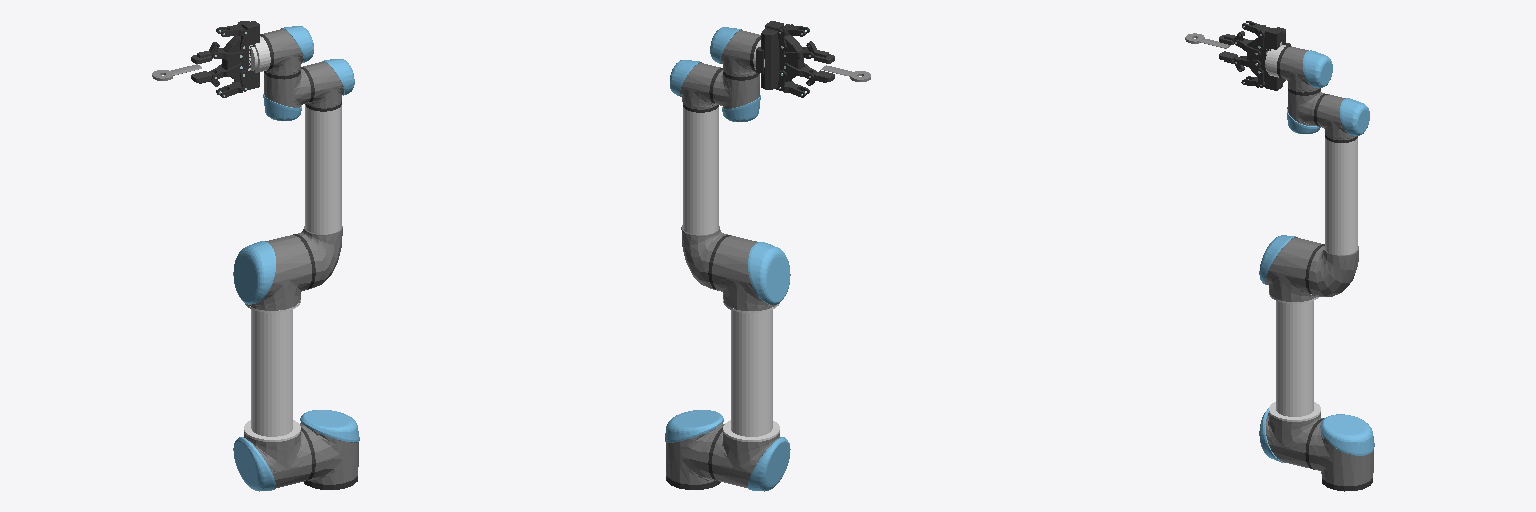
--- Facts derived from the render (not from the file) ---
3 views of the same robot in one strip: view 1: azimuth 30°, elevation 25°; view 2: azimuth 150°, elevation 25°; view 3: azimuth 330°, elevation 25° (orthographic).
Model robot_base_respondable with 17 links and 16 joints (10 revolute, 6 continuous), rooted at robot_base, posed every joint at zero.
Visible links, largest first — view 1: link_2_respondable_respondable_respondable_respondable_respondab, link_3_respondable_respondable_respondable_respondable_respondab, link_respondable_respondable_respondable_respondable_respondable, link_5_respondable_respondable_respondable_respondable_respondab, link_4_respondable_respondable_respondable_respondable_respondab, robotiq_base_respondable_respondable_respondable_respondable_res, link_6_respondable_respondable_respondable_respondable_respondab; view 2: link_2_respondable_respondable_respondable_respondable_respondab, link_3_respondable_respondable_respondable_respondable_respondab, link_respondable_respondable_respondable_respondable_respondable, link_5_respondable_respondable_respondable_respondable_respondab, link_4_respondable_respondable_respondable_respondable_respondab, robotiq_base_respondable_respondable_respondable_respondable_res; view 3: link_2_respondable_respondable_respondable_respondable_respondab, link_3_respondable_respondable_respondable_respondable_respondab, link_respondable_respondable_respondable_respondable_respondable, link_5_respondable_respondable_respondable_respondable_respondab, link_4_respondable_respondable_respondable_respondable_respondab, robotiq_base_respondable_respondable_respondable_respondable_res.
Link boxes in pixels (x1=…): link_2_respondable_respondable_respondable_respondable_respondab: x1=233, y1=234, x2=315, y2=491; link_3_respondable_respondable_respondable_respondable_respondab: x1=298, y1=59, x2=354, y2=289; link_respondable_respondable_respondable_respondable_respondable: x1=300, y1=410, x2=359, y2=484; link_5_respondable_respondable_respondable_respondable_respondab: x1=260, y1=26, x2=313, y2=79; link_4_respondable_respondable_respondable_respondable_respondab: x1=263, y1=67, x2=314, y2=120; robotiq_base_respondable_respondable_respondable_respondable_res: x1=222, y1=21, x2=259, y2=89; link_6_respondable_respondable_respondable_respondable_respondab: x1=251, y1=36, x2=270, y2=72; link_2_respondable_respondable_respondable_respondable_respondab: x1=708, y1=235, x2=790, y2=491; link_3_respondable_respondable_respondable_respondable_respondab: x1=670, y1=60, x2=727, y2=289; link_respondable_respondable_respondable_respondable_respondable: x1=665, y1=410, x2=724, y2=484; link_5_respondable_respondable_respondable_respondable_respondab: x1=710, y1=27, x2=760, y2=80; link_4_respondable_respondable_respondable_respondable_respondab: x1=709, y1=68, x2=760, y2=121; robotiq_base_respondable_respondable_respondable_respondable_res: x1=756, y1=21, x2=803, y2=89; link_2_respondable_respondable_respondable_respondable_respondab: x1=1259, y1=235, x2=1324, y2=468; link_3_respondable_respondable_respondable_respondable_respondab: x1=1308, y1=94, x2=1369, y2=296; link_respondable_respondable_respondable_respondable_respondable: x1=1305, y1=414, x2=1374, y2=485; link_5_respondable_respondable_respondable_respondable_respondab: x1=1277, y1=46, x2=1332, y2=95; link_4_respondable_respondable_respondable_respondable_respondab: x1=1287, y1=88, x2=1327, y2=133; robotiq_base_respondable_respondable_respondable_respondable_res: x1=1247, y1=27, x2=1290, y2=90.
Bounding box of the posed robot: 0.4709 × 0.12 × 1.06 m (x, y, z).
42 mesh visuals loaded from 42 distinct referenced files (42 Collada DAE).

URDF robot description (robot_base_respondable):
<?xml version="1.0"?>
<robot name="robot_base_respondable">
    <link name="robot_base">
        <collision name="robot_base_respondable">
            <origin rpy="3.141592 3.141593 -2.552481" xyz="0.000000 0.000000 0.000000" />
            <geometry>
                <cylinder radius="0.056886240839958" length="0.012300089001656" />
            </geometry>
        </collision>
        <collision name="robot_base_respondable">
            <origin rpy="-3.141592 3.141593 1.747927" xyz="0.000000 0.000000 -0.014650" />
            <geometry>
                <cylinder radius="0.072642646729946" length="0.017000352963805" />
            </geometry>
        </collision>
        <visual name="robot_base_visual">
            <origin rpy="3.141592 3.141593 3.141592" xyz="0.000000 0.000000 -0.008500" />
            <geometry>
                <mesh filename="models/urdf/industrial_06397/industrial_06397_robot_base_visual_vis_1.dae" />
            </geometry>
            <material name="robot_base_visual_material">
                <color rgba="0.282353 0.282353 0.282353 1.0" />
            </material>
        </visual>
    </link>
    <joint name="joint" type="revolute">
        <axis xyz="0 0 1" />
        <limit velocity="1.5707963705063" lower="-6.2831854820251" upper="6.2831854820251" effort="200.0" />
        <parent link="robot_base" />
        <child link="link_respondable_respondable_respondable_respondable_respondable_respondable" />
        <origin rpy="3.141592 3.141593 3.141592" xyz="-0.000000 0.000000 0.000000" />
    </joint>
    <link name="link_respondable_respondable_respondable_respondable_respondable_respondable">
        <inertial>
            <origin rpy="3.141592 3.141593 3.141592" xyz="-0.012312 0.000048 0.066405" />
            <inertia izz="0.09818059467752" iyz="-7.9251186174956e-05" iyy="0.10672965841326" ixx="0.095492165355254" ixz="0.0024490834762624" ixy="8.9516803607533e-05" />
            <mass value="2.5" />
        </inertial>
        <collision name="link_respondable_respondable_respondable_respondable_respondable_respondable">
            <origin rpy="3.141592 3.141593 3.141592" xyz="-0.007178 0.000095 0.070381" />
            <geometry>
                <mesh filename="models/urdf/industrial_06397/industrial_06397_link_respondable_respondable_respondable_respondable_respondable_respondable_coll_1.dae" />
            </geometry>
        </collision>
        <collision name="link_respondable_respondable_respondable_respondable_respondable_respondable">
            <origin rpy="3.141592 3.141593 3.141592" xyz="-0.007178 0.000095 0.070381" />
            <geometry>
                <mesh filename="models/urdf/industrial_06397/industrial_06397_link_respondable_respondable_respondable_respondable_respondable_respondable_coll_2.dae" />
            </geometry>
        </collision>
        <collision name="link_respondable_respondable_respondable_respondable_respondable_respondable">
            <origin rpy="3.141592 3.141593 3.141592" xyz="-0.007178 0.000095 0.070381" />
            <geometry>
                <mesh filename="models/urdf/industrial_06397/industrial_06397_link_respondable_respondable_respondable_respondable_respondable_respondable_coll_3.dae" />
            </geometry>
        </collision>
        <visual name="link_respondable_respondable_respondable_respondable_respondable_visual">
            <origin rpy="3.141592 3.141593 3.141592" xyz="-0.007150 0.000000 0.070335" />
            <geometry>
                <mesh filename="models/urdf/industrial_06397/industrial_06397_link_respondable_respondable_respondable_respondable_respondable_visual_vis_1.dae" />
            </geometry>
            <material name="link_respondable_respondable_respondable_respondable_respondable_visual_material">
                <color rgba="0.282353 0.282353 0.282353 1.0" />
            </material>
        </visual>
        <visual name="link_respondable_respondable_respondable_respondable_respondable_visual">
            <origin rpy="3.141592 3.141593 3.141592" xyz="-0.007150 0.000000 0.070335" />
            <geometry>
                <mesh filename="models/urdf/industrial_06397/industrial_06397_link_respondable_respondable_respondable_respondable_respondable_visual_vis_2.dae" />
            </geometry>
            <material name="link_respondable_respondable_respondable_respondable_respondable_visual_material">
                <color rgba="0.535294 0.535294 0.535294 1.0" />
            </material>
        </visual>
        <visual name="link_respondable_respondable_respondable_respondable_respondable_visual">
            <origin rpy="3.141592 3.141593 3.141592" xyz="-0.007150 0.000000 0.070335" />
            <geometry>
                <mesh filename="models/urdf/industrial_06397/industrial_06397_link_respondable_respondable_respondable_respondable_respondable_visual_vis_3.dae" />
            </geometry>
            <material name="link_respondable_respondable_respondable_respondable_respondable_visual_material">
                <color rgba="0.508235 0.761224 0.903529 1.0" />
            </material>
        </visual>
    </link>
    <joint name="joint_2" type="revolute">
        <axis xyz="0 0 1" />
        <limit velocity="1.5707963705063" lower="-6.2831854820251" upper="6.2831854820251" effort="200.0" />
        <parent link="link_respondable_respondable_respondable_respondable_respondable_respondable" />
        <child link="link_2_respondable_respondable_respondable_respondable_respondable_respondable" />
        <origin rpy="0.000001 -1.570796 0.000000" xyz="-0.070300 0.000000 0.066050" />
    </joint>
    <link name="link_2_respondable_respondable_respondable_respondable_respondable_respondable">
        <inertial>
            <origin rpy="-0.000000 1.570796 0.000000" xyz="0.215595 -0.000035 0.063573" />
            <inertia izz="0.067345368316432" iyz="-0.00017721757850982" iyy="0.63325135224174" ixx="0.62573305153059" ixz="-0.0052638063542259" ixy="9.2431180680848e-06" />
            <mass value="5.6999998092651" />
        </inertial>
        <collision name="link_2_respondable_respondable_respondable_respondable_respondable_respondable">
            <origin rpy="-0.000000 1.570796 0.000000" xyz="0.212550 -0.000115 0.064235" />
            <geometry>
                <mesh filename="models/urdf/industrial_06397/industrial_06397_link_2_respondable_respondable_respondable_respondable_respondable_respondable_coll_1.dae" />
            </geometry>
        </collision>
        <collision name="link_2_respondable_respondable_respondable_respondable_respondable_respondable">
            <origin rpy="-0.000000 1.570796 0.000000" xyz="0.212550 -0.000115 0.064235" />
            <geometry>
                <mesh filename="models/urdf/industrial_06397/industrial_06397_link_2_respondable_respondable_respondable_respondable_respondable_respondable_coll_2.dae" />
            </geometry>
        </collision>
        <collision name="link_2_respondable_respondable_respondable_respondable_respondable_respondable">
            <origin rpy="-0.000000 1.570796 0.000000" xyz="0.212550 -0.000115 0.064235" />
            <geometry>
                <mesh filename="models/urdf/industrial_06397/industrial_06397_link_2_respondable_respondable_respondable_respondable_respondable_respondable_coll_3.dae" />
            </geometry>
        </collision>
        <collision name="link_2_respondable_respondable_respondable_respondable_respondable_respondable">
            <origin rpy="-0.000000 1.570796 0.000000" xyz="0.212550 -0.000115 0.064235" />
            <geometry>
                <mesh filename="models/urdf/industrial_06397/industrial_06397_link_2_respondable_respondable_respondable_respondable_respondable_respondable_coll_4.dae" />
            </geometry>
        </collision>
        <collision name="link_2_respondable_respondable_respondable_respondable_respondable_respondable">
            <origin rpy="-0.000000 1.570796 0.000000" xyz="0.212550 -0.000115 0.064235" />
            <geometry>
                <mesh filename="models/urdf/industrial_06397/industrial_06397_link_2_respondable_respondable_respondable_respondable_respondable_respondable_coll_5.dae" />
            </geometry>
        </collision>
        <collision name="link_2_respondable_respondable_respondable_respondable_respondable_respondable">
            <origin rpy="-0.000000 1.570796 0.000000" xyz="0.212550 -0.000115 0.064235" />
            <geometry>
                <mesh filename="models/urdf/industrial_06397/industrial_06397_link_2_respondable_respondable_respondable_respondable_respondable_respondable_coll_6.dae" />
            </geometry>
        </collision>
        <collision name="link_2_respondable_respondable_respondable_respondable_respondable_respondable">
            <origin rpy="-0.000000 1.570796 0.000000" xyz="0.212550 -0.000115 0.064235" />
            <geometry>
                <mesh filename="models/urdf/industrial_06397/industrial_06397_link_2_respondable_respondable_respondable_respondable_respondable_respondable_coll_7.dae" />
            </geometry>
        </collision>
        <visual name="link_2_respondable_respondable_respondable_respondable_respondable_visual">
            <origin rpy="-0.000000 1.570796 0.000000" xyz="0.212550 0.000000 0.064217" />
            <geometry>
                <mesh filename="models/urdf/industrial_06397/industrial_06397_link_2_respondable_respondable_respondable_respondable_respondable_visual_vis_1.dae" />
            </geometry>
            <material name="link_2_respondable_respondable_respondable_respondable_respondable_visual_material">
                <color rgba="0.870588 0.870588 0.870588 1.0" />
            </material>
        </visual>
        <visual name="link_2_respondable_respondable_respondable_respondable_respondable_visual">
            <origin rpy="-0.000000 1.570796 0.000000" xyz="0.212550 0.000000 0.064217" />
            <geometry>
                <mesh filename="models/urdf/industrial_06397/industrial_06397_link_2_respondable_respondable_respondable_respondable_respondable_visual_vis_2.dae" />
            </geometry>
            <material name="link_2_respondable_respondable_respondable_respondable_respondable_visual_material">
                <color rgba="0.508235 0.761224 0.903529 1.0" />
            </material>
        </visual>
        <visual name="link_2_respondable_respondable_respondable_respondable_respondable_visual">
            <origin rpy="-0.000000 1.570796 0.000000" xyz="0.212550 0.000000 0.064217" />
            <geometry>
                <mesh filename="models/urdf/industrial_06397/industrial_06397_link_2_respondable_respondable_respondable_respondable_respondable_visual_vis_3.dae" />
            </geometry>
            <material name="link_2_respondable_respondable_respondable_respondable_respondable_visual_material">
                <color rgba="0.535294 0.535294 0.535294 1.0" />
            </material>
        </visual>
        <visual name="link_2_respondable_respondable_respondable_respondable_respondable_visual">
            <origin rpy="-0.000000 1.570796 0.000000" xyz="0.212550 0.000000 0.064217" />
            <geometry>
                <mesh filename="models/urdf/industrial_06397/industrial_06397_link_2_respondable_respondable_respondable_respondable_respondable_visual_vis_4.dae" />
            </geometry>
            <material name="link_2_respondable_respondable_respondable_respondable_respondable_visual_material">
                <color rgba="0.282353 0.282353 0.282353 1.0" />
            </material>
        </visual>
        <visual name="link_2_respondable_respondable_respondable_respondable_respondable_visual">
            <origin rpy="-0.000000 1.570796 0.000000" xyz="0.212550 0.000000 0.064217" />
            <geometry>
                <mesh filename="models/urdf/industrial_06397/industrial_06397_link_2_respondable_respondable_respondable_respondable_respondable_visual_vis_5.dae" />
            </geometry>
            <material name="link_2_respondable_respondable_respondable_respondable_respondable_visual_material">
                <color rgba="0.535294 0.535294 0.535294 1.0" />
            </material>
        </visual>
        <visual name="link_2_respondable_respondable_respondable_respondable_respondable_visual">
            <origin rpy="-0.000000 1.570796 0.000000" xyz="0.212550 0.000000 0.064217" />
            <geometry>
                <mesh filename="models/urdf/industrial_06397/industrial_06397_link_2_respondable_respondable_respondable_respondable_respondable_visual_vis_6.dae" />
            </geometry>
            <material name="link_2_respondable_respondable_respondable_respondable_respondable_visual_material">
                <color rgba="0.508235 0.761224 0.903529 1.0" />
            </material>
        </visual>
    </link>
    <joint name="joint_3" type="revolute">
        <axis xyz="0 0 1" />
        <limit velocity="1.5707963705063" lower="-6.2831854820251" upper="6.2831854820251" effort="200.0" />
        <parent link="link_2_respondable_respondable_respondable_respondable_respondable_respondable" />
        <child link="link_3_respondable_respondable_respondable_respondable_respondable_respondable" />
        <origin rpy="3.141593 3.141592 3.141592" xyz="0.425100 -0.000000 0.000000" />
    </joint>
    <link name="link_3_respondable_respondable_respondable_respondable_respondable_respondable">
        <inertial>
            <origin rpy="0.000000 1.570796 0.000000" xyz="0.192773 0.000015 -0.050153" />
            <inertia izz="0.035597955537677" iyz="-2.1029099787318e-05" iyy="0.46060709235019" ixx="0.4592564485459" ixz="-0.027670910392482" ixy="2.2187787147887e-06" />
            <mass value="3.9000000953674" />
        </inertial>
        <collision name="link_3_respondable_respondable_respondable_respondable_respondable_respondable">
            <origin rpy="0.000000 1.570796 0.000000" xyz="0.186773 0.000016 -0.057847" />
            <geometry>
                <mesh filename="models/urdf/industrial_06397/industrial_06397_link_3_respondable_respondable_respondable_respondable_respondable_respondable_coll_1.dae" />
            </geometry>
        </collision>
        <collision name="link_3_respondable_respondable_respondable_respondable_respondable_respondable">
            <origin rpy="0.000000 1.570796 0.000000" xyz="0.186773 0.000016 -0.057847" />
            <geometry>
                <mesh filename="models/urdf/industrial_06397/industrial_06397_link_3_respondable_respondable_respondable_respondable_respondable_respondable_coll_2.dae" />
            </geometry>
        </collision>
        <collision name="link_3_respondable_respondable_respondable_respondable_respondable_respondable">
            <origin rpy="0.000000 1.570796 0.000000" xyz="0.186773 0.000016 -0.057847" />
            <geometry>
                <mesh filename="models/urdf/industrial_06397/industrial_06397_link_3_respondable_respondable_respondable_respondable_respondable_respondable_coll_3.dae" />
            </geometry>
        </collision>
        <collision name="link_3_respondable_respondable_respondable_respondable_respondable_respondable">
            <origin rpy="0.000000 1.570796 0.000000" xyz="0.186773 0.000016 -0.057847" />
            <geometry>
                <mesh filename="models/urdf/industrial_06397/industrial_06397_link_3_respondable_respondable_respondable_respondable_respondable_respondable_coll_4.dae" />
            </geometry>
        </collision>
        <collision name="link_3_respondable_respondable_respondable_respondable_respondable_respondable">
            <origin rpy="0.000000 1.570796 0.000000" xyz="0.186773 0.000016 -0.057847" />
            <geometry>
                <mesh filename="models/urdf/industrial_06397/industrial_06397_link_3_respondable_respondable_respondable_respondable_respondable_respondable_coll_5.dae" />
            </geometry>
        </collision>
        <visual name="link_3_respondable_respondable_respondable_respondable_respondable_visual">
            <origin rpy="0.000000 1.570796 0.000000" xyz="0.186650 -0.000000 -0.057850" />
            <geometry>
                <mesh filename="models/urdf/industrial_06397/industrial_06397_link_3_respondable_respondable_respondable_respondable_respondable_visual_vis_1.dae" />
            </geometry>
            <material name="link_3_respondable_respondable_respondable_respondable_respondable_visual_material">
                <color rgba="0.870588 0.870588 0.870588 1.0" />
            </material>
        </visual>
        <visual name="link_3_respondable_respondable_respondable_respondable_respondable_visual">
            <origin rpy="0.000000 1.570796 0.000000" xyz="0.186650 -0.000000 -0.057850" />
            <geometry>
                <mesh filename="models/urdf/industrial_06397/industrial_06397_link_3_respondable_respondable_respondable_respondable_respondable_visual_vis_2.dae" />
            </geometry>
            <material name="link_3_respondable_respondable_respondable_respondable_respondable_visual_material">
                <color rgba="0.535294 0.535294 0.535294 1.0" />
            </material>
        </visual>
        <visual name="link_3_respondable_respondable_respondable_respondable_respondable_visual">
            <origin rpy="0.000000 1.570796 0.000000" xyz="0.186650 -0.000000 -0.057850" />
            <geometry>
                <mesh filename="models/urdf/industrial_06397/industrial_06397_link_3_respondable_respondable_respondable_respondable_respondable_visual_vis_3.dae" />
            </geometry>
            <material name="link_3_respondable_respondable_respondable_respondable_respondable_visual_material">
                <color rgba="0.508235 0.761224 0.903529 1.0" />
            </material>
        </visual>
        <visual name="link_3_respondable_respondable_respondable_respondable_respondable_visual">
            <origin rpy="0.000000 1.570796 0.000000" xyz="0.186650 -0.000000 -0.057850" />
            <geometry>
                <mesh filename="models/urdf/industrial_06397/industrial_06397_link_3_respondable_respondable_respondable_respondable_respondable_visual_vis_4.dae" />
            </geometry>
            <material name="link_3_respondable_respondable_respondable_respondable_respondable_visual_material">
                <color rgba="0.282353 0.282353 0.282353 1.0" />
            </material>
        </visual>
        <visual name="link_3_respondable_respondable_respondable_respondable_respondable_visual">
            <origin rpy="0.000000 1.570796 0.000000" xyz="0.186650 -0.000000 -0.057850" />
            <geometry>
                <mesh filename="models/urdf/industrial_06397/industrial_06397_link_3_respondable_respondable_respondable_respondable_respondable_visual_vis_5.dae" />
            </geometry>
            <material name="link_3_respondable_respondable_respondable_respondable_respondable_visual_material">
                <color rgba="0.535294 0.535294 0.535294 1.0" />
            </material>
        </visual>
    </link>
    <joint name="joint_4" type="revolute">
        <axis xyz="0 0 1" />
        <limit velocity="1.5707963705063" lower="-6.2831854820251" upper="6.2831854820251" effort="200.0" />
        <parent link="link_3_respondable_respondable_respondable_respondable_respondable_respondable" />
        <child link="link_4_respondable_respondable_respondable_respondable_respondable_respondable" />
        <origin rpy="3.141593 3.141592 3.141592" xyz="0.392150 -0.000000 0.000000" />
    </joint>
    <link name="link_4_respondable_respondable_respondable_respondable_respondable_respondable">
        <inertial>
            <origin rpy="0.000000 1.570796 0.000000" xyz="-0.005517 -0.000003 0.030943" />
            <inertia izz="0.087106483494915" iyz="-1.791527123899e-05" iyy="0.11466452218562" ixx="0.10017005794782" ixz="-0.0020900872562349" ixy="3.1976010243315e-06" />
            <mass value="2.5" />
        </inertial>
        <collision name="link_4_respondable_respondable_respondable_respondable_respondable_respondable">
            <origin rpy="0.000000 1.570796 0.000000" xyz="-0.007501 -0.000045 0.032830" />
            <geometry>
                <mesh filename="models/urdf/industrial_06397/industrial_06397_link_4_respondable_respondable_respondable_respondable_respondable_respondable_coll_1.dae" />
            </geometry>
        </collision>
        <collision name="link_4_respondable_respondable_respondable_respondable_respondable_respondable">
            <origin rpy="0.000000 1.570796 0.000000" xyz="-0.007501 -0.000045 0.032830" />
            <geometry>
                <mesh filename="models/urdf/industrial_06397/industrial_06397_link_4_respondable_respondable_respondable_respondable_respondable_respondable_coll_2.dae" />
            </geometry>
        </collision>
        <collision name="link_4_respondable_respondable_respondable_respondable_respondable_respondable">
            <origin rpy="0.000000 1.570796 0.000000" xyz="-0.007501 -0.000045 0.032830" />
            <geometry>
                <mesh filename="models/urdf/industrial_06397/industrial_06397_link_4_respondable_respondable_respondable_respondable_respondable_respondable_coll_3.dae" />
            </geometry>
        </collision>
        <visual name="link_4_respondable_respondable_respondable_respondable_respondable_visual">
            <origin rpy="0.000000 1.570796 0.000000" xyz="-0.007500 0.000000 0.032800" />
            <geometry>
                <mesh filename="models/urdf/industrial_06397/industrial_06397_link_4_respondable_respondable_respondable_respondable_respondable_visual_vis_1.dae" />
            </geometry>
            <material name="link_4_respondable_respondable_respondable_respondable_respondable_visual_material">
                <color rgba="0.282353 0.282353 0.282353 1.0" />
            </material>
        </visual>
        <visual name="link_4_respondable_respondable_respondable_respondable_respondable_visual">
            <origin rpy="0.000000 1.570796 0.000000" xyz="-0.007500 0.000000 0.032800" />
            <geometry>
                <mesh filename="models/urdf/industrial_06397/industrial_06397_link_4_respondable_respondable_respondable_respondable_respondable_visual_vis_2.dae" />
            </geometry>
            <material name="link_4_respondable_respondable_respondable_respondable_respondable_visual_material">
                <color rgba="0.535294 0.535294 0.535294 1.0" />
            </material>
        </visual>
        <visual name="link_4_respondable_respondable_respondable_respondable_respondable_visual">
            <origin rpy="0.000000 1.570796 0.000000" xyz="-0.007500 0.000000 0.032800" />
            <geometry>
                <mesh filename="models/urdf/industrial_06397/industrial_06397_link_4_respondable_respondable_respondable_respondable_respondable_visual_vis_3.dae" />
            </geometry>
            <material name="link_4_respondable_respondable_respondable_respondable_respondable_visual_material">
                <color rgba="0.508235 0.761224 0.903529 1.0" />
            </material>
        </visual>
    </link>
    <joint name="joint_5" type="revolute">
        <axis xyz="0 0 1" />
        <limit velocity="1.5707963705063" lower="-6.2831854820251" upper="6.2831854820251" effort="200.0" />
        <parent link="link_4_respondable_respondable_respondable_respondable_respondable_respondable" />
        <child link="link_5_respondable_respondable_respondable_respondable_respondable_respondable" />
        <origin rpy="2.596272 1.570799 2.596272" xyz="0.045575 -0.000000 0.039700" />
    </joint>
    <link name="link_5_respondable_respondable_respondable_respondable_respondable_respondable">
        <inertial>
            <origin rpy="3.141592 3.141593 3.141592" xyz="0.002100 0.000002 0.040669" />
            <inertia izz="0.1041509279002" iyz="3.8714712477568e-06" iyy="0.11739579576874" ixx="0.08179215416809" ixz="-0.00073245390311674" ixy="-1.5531769026879e-05" />
            <mass value="2.5" />
        </inertial>
        <collision name="link_5_respondable_respondable_respondable_respondable_respondable_respondable">
            <origin rpy="3.141592 3.141593 3.141592" xyz="0.003601 0.000045 0.042305" />
            <geometry>
                <mesh filename="models/urdf/industrial_06397/industrial_06397_link_5_respondable_respondable_respondable_respondable_respondable_respondable_coll_1.dae" />
            </geometry>
        </collision>
        <collision name="link_5_respondable_respondable_respondable_respondable_respondable_respondable">
            <origin rpy="3.141592 3.141593 3.141592" xyz="0.003601 0.000045 0.042305" />
            <geometry>
                <mesh filename="models/urdf/industrial_06397/industrial_06397_link_5_respondable_respondable_respondable_respondable_respondable_respondable_coll_2.dae" />
            </geometry>
        </collision>
        <collision name="link_5_respondable_respondable_respondable_respondable_respondable_respondable">
            <origin rpy="3.141592 3.141593 3.141592" xyz="0.003601 0.000045 0.042305" />
            <geometry>
                <mesh filename="models/urdf/industrial_06397/industrial_06397_link_5_respondable_respondable_respondable_respondable_respondable_respondable_coll_3.dae" />
            </geometry>
        </collision>
        <visual name="link_5_respondable_respondable_respondable_respondable_respondable_visual">
            <origin rpy="3.141592 3.141593 3.141592" xyz="0.003600 -0.000000 0.042275" />
            <geometry>
                <mesh filename="models/urdf/industrial_06397/industrial_06397_link_5_respondable_respondable_respondable_respondable_respondable_visual_vis_1.dae" />
            </geometry>
            <material name="link_5_respondable_respondable_respondable_respondable_respondable_visual_material">
                <color rgba="0.535294 0.535294 0.535294 1.0" />
            </material>
        </visual>
        <visual name="link_5_respondable_respondable_respondable_respondable_respondable_visual">
            <origin rpy="3.141592 3.141593 3.141592" xyz="0.003600 -0.000000 0.042275" />
            <geometry>
                <mesh filename="models/urdf/industrial_06397/industrial_06397_link_5_respondable_respondable_respondable_respondable_respondable_visual_vis_2.dae" />
            </geometry>
            <material name="link_5_respondable_respondable_respondable_respondable_respondable_visual_material">
                <color rgba="0.508235 0.761224 0.903529 1.0" />
            </material>
        </visual>
        <visual name="link_5_respondable_respondable_respondable_respondable_respondable_visual">
            <origin rpy="3.141592 3.141593 3.141592" xyz="0.003600 -0.000000 0.042275" />
            <geometry>
                <mesh filename="models/urdf/industrial_06397/industrial_06397_link_5_respondable_respondable_respondable_respondable_respondable_visual_vis_3.dae" />
            </geometry>
            <material name="link_5_respondable_respondable_respondable_respondable_respondable_visual_material">
                <color rgba="0.282353 0.282353 0.282353 1.0" />
            </material>
        </visual>
        <visual name="link_5_respondable_respondable_respondable_respondable_respondable_visual">
            <origin rpy="3.141592 3.141593 3.141592" xyz="0.003600 -0.000000 0.042275" />
            <geometry>
                <mesh filename="models/urdf/industrial_06397/industrial_06397_link_5_respondable_respondable_respondable_respondable_respondable_visual_vis_4.dae" />
            </geometry>
            <material name="link_5_respondable_respondable_respondable_respondable_respondable_visual_material">
                <color rgba="0.282353 0.282353 0.282353 1.0" />
            </material>
        </visual>
    </link>
    <joint name="joint_6" type="revolute">
        <axis xyz="0 0 1" />
        <limit velocity="1.5707963705063" lower="-6.2831854820251" upper="6.2831854820251" effort="200.0" />
        <parent link="link_5_respondable_respondable_respondable_respondable_respondable_respondable" />
        <child link="link_6_respondable_respondable_respondable_respondable_respondable_respondable" />
        <origin rpy="-3.141592 4.712385 -3.141592" xyz="0.014425 -0.000000 0.049175" />
    </joint>
    <link name="link_6_respondable_respondable_respondable_respondable_respondable_respondable">
        <inertial>
            <origin rpy="-3.141593 3.141593 3.141592" xyz="0.000000 0.000000 0.076675" />
            <inertia izz="0.010054638677955" iyz="2.0432933875776e-25" iyy="0.0058406852103875" ixx="0.0058406852103875" ixz="-2.0432933882088e-25" ixy="-5.1232196104835e-48" />
            <mass value="0.69999998807907" />
        </inertial>
        <collision name="link_6_respondable_respondable_respondable_respondable_respondable_respondable">
            <origin rpy="-3.141593 3.141593 3.141592" xyz="0.000000 0.000000 0.076675" />
            <geometry>
                <cylinder radius="0.036602452397346" length="0.025500684976578" />
            </geometry>
        </collision>
        <visual name="link_6_respondable_respondable_respondable_respondable_respondable_visual">
            <origin rpy="0.000001 1.570796 0.000000" xyz="0.003860 -0.000000 0.080425" />
            <geometry>
                <mesh filename="models/urdf/industrial_06397/industrial_06397_link_6_respondable_respondable_respondable_respondable_respondable_visual_vis_1.dae" />
            </geometry>
            <material name="link_6_respondable_respondable_respondable_respondable_respondable_visual_material">
                <color rgba="0.870588 0.870588 0.870588 1.0" />
            </material>
        </visual>
    </link>
    <joint name="joint_6_2" type="revolute">
        <axis xyz="0 0 1" />
        <limit velocity="1.5707963705063" lower="-6.2831854820251" upper="6.2831854820251" effort="200.0" />
        <parent link="link_6_respondable_respondable_respondable_respondable_respondable_respondable" />
        <child link="robotiq_base_respondable_respondable_respondable_respondable_respondable_respondable" />
        <origin rpy="1.569831 4.712382 -1.569831" xyz="0.014425 0.000000 0.049175" />
    </joint>
    <link name="robotiq_base_respondable_respondable_respondable_respondable_respondable_respondable">
        <inertial>
            <origin rpy="1.570796 3.141592 -3.141591" xyz="0.043899 0.008350 0.012000" />
            <inertia izz="0.00072521695233332" iyz="-2.9619775595086e-11" iyy="0.00024588701243668" ixx="0.00070222511049253" ixz="3.003181387601e-05" ixy="-3.0779821975945e-10" />
            <mass value="0.5" />
        </inertial>
        <collision name="robotiq_base_respondable_respondable_respondable_respondable_respondable_respondable">
            <origin rpy="1.570796 3.141592 -3.141591" xyz="0.030000 0.010000 0.012000" />
            <geometry>
                <box size="0.017463 0.050800 0.057938" />
            </geometry>
        </collision>
        <collision name="robotiq_base_respondable_respondable_respondable_respondable_respondable_respondable">
            <origin rpy="3.141592 3.141592 -3.141591" xyz="0.083032 -0.004681 0.012000" />
            <geometry>
                <box size="0.040000 0.020600 0.040000" />
            </geometry>
        </collision>
        <collision name="robotiq_base_respondable_respondable_respondable_respondable_respondable_respondable">
            <origin rpy="-0.000001 3.141592 -3.141591" xyz="0.041272 0.009924 0.012000" />
            <geometry>
                <box size="0.030480 0.051435 0.139700" />
            </geometry>
        </collision>
        <visual name="robotiq_base_respondable_respondable_respondable_respondable_respondable_visual">
            <origin rpy="-0.000010 1.570796 0.000000" xyz="0.062151 0.010000 0.012000" />
            <geometry>
                <mesh filename="models/urdf/industrial_06397/industrial_06397_robotiq_base_respondable_respondable_respondable_respondable_respondable_visual_vis_1.dae" />
            </geometry>
            <material name="robotiq_base_respondable_respondable_respondable_respondable_respondable_visual_material">
                <color rgba="0.282317 0.282389 0.282389 1.0" />
            </material>
        </visual>
        <visual name="robotiq_base_respondable_respondable_respondable_respondable_respondable_visual">
            <origin rpy="-0.000010 1.570796 0.000000" xyz="0.062151 0.010000 0.012000" />
            <geometry>
                <mesh filename="models/urdf/industrial_06397/industrial_06397_robotiq_base_respondable_respondable_respondable_respondable_respondable_visual_vis_2.dae" />
            </geometry>
            <material name="robotiq_base_respondable_respondable_respondable_respondable_respondable_visual_material">
                <color rgba="1.000000 1.000000 1.000000 1.0" />
            </material>
        </visual>
    </link>
    <joint name="joint_6_3" type="revolute">
        <axis xyz="0 0 1" />
        <limit velocity="1.5707963705063" lower="-6.2831854820251" upper="6.2831854820251" effort="200.0" />
        <parent link="robotiq_base_respondable_respondable_respondable_respondable_respondable_respondable" />
        <child link="dynamic" />
        <origin rpy="1.570754 3.141589 -1.570804" xyz="0.030000 0.010000 0.012000" />
    </joint>
    <link name="dynamic">
        <visual name="dynamic">
        <collision name="dynamic_respondable">
            <origin rpy="-3.141593 4.712351 1.570792" xyz="-0.010001 0.001441 -0.192320" />
            <geometry>
                <mesh filename="models/urdf/industrial_06397/industrial_06397_dynamic_vis_1.dae" />
            </geometry>
        </collision>
            <origin rpy="-3.141593 4.712351 1.570792" xyz="-0.010001 0.001441 -0.192320" />
            <geometry>
                <mesh filename="models/urdf/industrial_06397/industrial_06397_dynamic_vis_1.dae" />
            </geometry>
            <material name="dynamic_material">
                <color rgba="0.600000 0.600000 0.600000 1.0" />
            </material>
        </visual>
    </link>
    <joint name="Rjoint1" type="revolute">
        <axis xyz="0 0 1" />
        <limit velocity="0.69813168048859" lower="0.0" upper="0.78539818525314" effort="1.0" />
        <parent link="robotiq_base_respondable_respondable_respondable_respondable_respondable_respondable" />
        <child link="Rfinger_respondable_respondable_respondable_respondable_respondable_respondable" />
        <origin rpy="-1.365597 1.570798 -2.936391" xyz="0.074600 -0.004681 -0.000738" />
    </joint>
    <link name="Rfinger_respondable_respondable_respondable_respondable_respondable_respondable">
        <inertial>
            <origin rpy="1.570973 3.138398 -0.197315" xyz="0.005488 0.027095 -0.000010" />
            <inertia izz="7.6569405819033e-06" iyz="2.6073848673186e-20" iyy="2.9984947551464e-05" ixx="3.4844272621657e-05" ixz="2.1062598132683e-20" ixy="2.8300690834922e-21" />
            <mass value="0.10000000149012" />
        </inertial>
        <collision name="Rfinger_respondable_respondable_respondable_respondable_respondable_respondable">
            <origin rpy="1.570973 3.138398 -0.197315" xyz="0.005488 0.027095 -0.000010" />
            <geometry>
                <box size="0.015803 0.033427 0.071444" />
            </geometry>
        </collision>
        <visual name="Rfinger_respondable_respondable_respondable_respondable_respondable_visual">
            <origin rpy="1.570973 3.138398 -0.197315" xyz="0.005488 0.027095 -0.000010" />
            <geometry>
                <mesh filename="models/urdf/industrial_06397/industrial_06397_Rfinger_respondable_respondable_respondable_respondable_respondable_visual_vis_1.dae" />
            </geometry>
            <material name="Rfinger_respondable_respondable_respondable_respondable_respondable_visual_material">
                <color rgba="0.282317 0.282389 0.282389 1.0" />
            </material>
        </visual>
        <visual name="Rfinger_respondable_respondable_respondable_respondable_respondable_visual">
            <origin rpy="1.570973 3.138398 -0.197315" xyz="0.005488 0.027095 -0.000010" />
            <geometry>
                <mesh filename="models/urdf/industrial_06397/industrial_06397_Rfinger_respondable_respondable_respondable_respondable_respondable_visual_vis_2.dae" />
            </geometry>
            <material name="Rfinger_respondable_respondable_respondable_respondable_respondable_visual_material">
                <color rgba="0.837524 0.970755 1.000000 1.0" />
            </material>
        </visual>
    </link>
    <joint name="Rjoint2" type="continuous">
        <axis xyz="0 0 1" />
        <parent link="Rfinger_respondable_respondable_respondable_respondable_respondable_respondable" />
        <child link="RfingerTip_respondable_respondable_respondable_respondable_respondable_respondable" />
        <origin rpy="3.141588 3.141599 -2.617992" xyz="0.011178 0.055908 -0.000005" />
    </joint>
    <link name="RfingerTip_respondable_respondable_respondable_respondable_respondable_respondable">
        <inertial>
            <origin rpy="1.570807 3.141584 2.617863" xyz="0.011427 0.016336 0.000003" />
            <inertia izz="1.0653877098426e-05" iyz="3.040203109114e-09" iyy="3.3094096464058e-05" ixx="3.0898972527854e-05" ixz="9.351945982435e-06" ixy="-1.5997928581758e-09" />
            <mass value="0.10000000149012" />
        </inertial>
        <collision name="RfingerTip_respondable_respondable_respondable_respondable_respondable_respondable">
            <origin rpy="1.570807 3.141584 2.617863" xyz="0.011082 0.025433 0.000005" />
            <geometry>
                <box size="0.009509 0.025404 0.036832" />
            </geometry>
        </collision>
        <collision name="RfingerTip_respondable_respondable_respondable_respondable_respondable_respondable">
            <origin rpy="-1.570950 3.141603 -0.523730" xyz="0.014106 0.016939 0.000003" />
            <geometry>
                <box size="0.008509 0.014223 0.025144" />
            </geometry>
        </collision>
        <collision name="RfingerTip_respondable_respondable_respondable_respondable_respondable_respondable">
            <origin rpy="2.669909 1.571059 -1.519009" xyz="0.009791 -0.010308 -0.000000" />
            <geometry>
                <box size="0.011078 0.012672 0.022135" />
            </geometry>
        </collision>
        <visual name="RfingerTip_respondable_respondable_respondable_respondable_respondable_visual">
            <origin rpy="1.570938 3.141584 2.617889" xyz="0.015278 0.010303 0.000004" />
            <geometry>
                <mesh filename="models/urdf/industrial_06397/industrial_06397_RfingerTip_respondable_respondable_respondable_respondable_respondable_visual_vis_1.dae" />
            </geometry>
            <material name="RfingerTip_respondable_respondable_respondable_respondable_respondable_visual_material">
                <color rgba="0.282317 0.282389 0.282389 1.0" />
            </material>
        </visual>
        <visual name="RfingerTip_respondable_respondable_respondable_respondable_respondable_visual">
            <origin rpy="1.570938 3.141584 2.617889" xyz="0.015278 0.010303 0.000004" />
            <geometry>
                <mesh filename="models/urdf/industrial_06397/industrial_06397_RfingerTip_respondable_respondable_respondable_respondable_respondable_visual_vis_2.dae" />
            </geometry>
            <material name="RfingerTip_respondable_respondable_respondable_respondable_respondable_visual_material">
                <color rgba="0.305882 0.305882 0.305882 1.0" />
            </material>
        </visual>
    </link>
    <joint name="RactiveJoint" type="continuous">
        <axis xyz="0 0 1" />
        <parent link="robotiq_base_respondable_respondable_respondable_respondable_respondable_respondable" />
        <child link="RauxLink1Visible_visual_visual_visual_visual_visual_visual" />
        <origin rpy="-1.365597 1.570798 -2.936391" xyz="0.067942 -0.004681 -0.018601" />
    </joint>
    <link name="RauxLink1Visible_visual_visual_visual_visual_visual_visual">
        <visual name="RauxLink1Visible_visual_visual_visual_visual_visual_visual">
            <origin rpy="-1.570931 3.141677 -1.674482" xyz="0.014963 -0.001623 0.000001" />
            <geometry>
                <mesh filename="models/urdf/industrial_06397/industrial_06397_RauxLink1Visible_visual_visual_visual_visual_visual_visual_vis_1.dae" />
            </geometry>
            <material name="RauxLink1Visible_visual_visual_visual_visual_visual_visual_material">
                <color rgba="0.282317 0.282389 0.282389 1.0" />
            </material>
        </visual>
        <visual name="RauxLink1Visible_visual_visual_visual_visual_visual_visual">
            <origin rpy="-1.570931 3.141677 -1.674482" xyz="0.014963 -0.001623 0.000001" />
            <geometry>
                <mesh filename="models/urdf/industrial_06397/industrial_06397_RauxLink1Visible_visual_visual_visual_visual_visual_visual_vis_2.dae" />
            </geometry>
            <material name="RauxLink1Visible_visual_visual_visual_visual_visual_visual_material">
                <color rgba="0.837524 0.970755 1.000000 1.0" />
            </material>
        </visual>
    </link>
    <joint name="RauxJoint2" type="continuous">
        <axis xyz="0 0 1" />
        <parent link="RauxLink1Visible_visual_visual_visual_visual_visual_visual" />
        <child link="RauxLink2Visible_visual_visual_visual_visual_visual_visual" />
        <origin rpy="-3.141592 3.141593 -3.141592" xyz="0.031465 -0.004244 0.000000" />
    </joint>
    <link name="RauxLink2Visible_visual_visual_visual_visual_visual_visual">
        <visual name="RauxLink2Visible_visual_visual_visual_visual_visual_visual">
            <origin rpy="-1.570795 3.141585 -0.130688" xyz="0.003104 0.023609 0.000000" />
            <geometry>
                <mesh filename="models/urdf/industrial_06397/industrial_06397_RauxLink2Visible_visual_visual_visual_visual_visual_visual_vis_1.dae" />
            </geometry>
            <material name="RauxLink2Visible_visual_visual_visual_visual_visual_visual_material">
                <color rgba="0.282317 0.282389 0.282389 1.0" />
            </material>
        </visual>
        <visual name="RauxLink2Visible_visual_visual_visual_visual_visual_visual">
            <origin rpy="-1.570795 3.141585 -0.130688" xyz="0.003104 0.023609 0.000000" />
            <geometry>
                <mesh filename="models/urdf/industrial_06397/industrial_06397_RauxLink2Visible_visual_visual_visual_visual_visual_visual_vis_2.dae" />
            </geometry>
            <material name="RauxLink2Visible_visual_visual_visual_visual_visual_visual_material">
                <color rgba="0.837524 0.970755 1.000000 1.0" />
            </material>
        </visual>
    </link>
    <joint name="Ljoint1" type="revolute">
        <axis xyz="0 0 1" />
        <limit velocity="0.69813168048859" lower="0.0" upper="0.78539818525314" effort="1.0" />
        <parent link="robotiq_base_respondable_respondable_respondable_respondable_respondable_respondable" />
        <child link="Lfinger_respondable_respondable_respondable_respondable_respondable_respondable" />
        <origin rpy="-1.570793 -1.570796 0.000000" xyz="0.074600 -0.004681 0.024736" />
    </joint>
    <link name="Lfinger_respondable_respondable_respondable_respondable_respondable_respondable">
        <inertial>
            <origin rpy="1.570973 3.138400 -0.197320" xyz="0.005488 0.027096 0.000000" />
            <inertia izz="7.6569405819033e-06" iyz="3.1849061849001e-20" iyy="2.9984947551464e-05" ixx="3.4844272621657e-05" ixz="1.4177316404393e-20" ixy="5.9165832030089e-21" />
            <mass value="0.10000000149012" />
        </inertial>
        <collision name="Lfinger_respondable_respondable_respondable_respondable_respondable_respondable">
            <origin rpy="1.570973 3.138400 -0.197320" xyz="0.005488 0.027096 0.000000" />
            <geometry>
                <box size="0.015803 0.033427 0.071444" />
            </geometry>
        </collision>
        <visual name="Lfinger_respondable_respondable_respondable_respondable_respondable_visual">
            <origin rpy="1.570973 3.138400 -0.197320" xyz="0.005488 0.027096 0.000000" />
            <geometry>
                <mesh filename="models/urdf/industrial_06397/industrial_06397_Lfinger_respondable_respondable_respondable_respondable_respondable_visual_vis_1.dae" />
            </geometry>
            <material name="Lfinger_respondable_respondable_respondable_respondable_respondable_visual_material">
                <color rgba="0.282317 0.282389 0.282389 1.0" />
            </material>
        </visual>
        <visual name="Lfinger_respondable_respondable_respondable_respondable_respondable_visual">
            <origin rpy="1.570973 3.138400 -0.197320" xyz="0.005488 0.027096 0.000000" />
            <geometry>
                <mesh filename="models/urdf/industrial_06397/industrial_06397_Lfinger_respondable_respondable_respondable_respondable_respondable_visual_vis_2.dae" />
            </geometry>
            <material name="Lfinger_respondable_respondable_respondable_respondable_respondable_visual_material">
                <color rgba="0.837524 0.970755 1.000000 1.0" />
            </material>
        </visual>
    </link>
    <joint name="Ljoint2" type="continuous">
        <axis xyz="0 0 1" />
        <parent link="Lfinger_respondable_respondable_respondable_respondable_respondable_respondable" />
        <child link="LfingerTip_respondable_respondable_respondable_respondable_respondable_respondable" />
        <origin rpy="3.141589 3.141598 -2.617995" xyz="0.011178 0.055909 0.000005" />
    </joint>
    <link name="LfingerTip_respondable_respondable_respondable_respondable_respondable_respondable">
        <inertial>
            <origin rpy="1.570786 3.141585 2.618120" xyz="0.011428 0.016336 -0.000007" />
            <inertia izz="1.0653864139997e-05" iyz="3.0402050629753e-09" iyy="3.3094096464058e-05" ixx="3.0898985486283e-05" ixz="9.3519319562104e-06" ixy="-1.599790949334e-09" />
            <mass value="0.10000000149012" />
        </inertial>
        <collision name="LfingerTip_respondable_respondable_respondable_respondable_respondable_respondable">
            <origin rpy="1.570786 3.141585 2.618120" xyz="0.011081 0.025434 -0.000005" />
            <geometry>
                <box size="0.009509 0.025404 0.036832" />
            </geometry>
        </collision>
        <collision name="LfingerTip_respondable_respondable_respondable_respondable_respondable_respondable">
            <origin rpy="-1.570929 3.141602 -0.523473" xyz="0.014107 0.016941 -0.000006" />
            <geometry>
                <box size="0.008509 0.014223 0.025144" />
            </geometry>
        </collision>
        <collision name="LfingerTip_respondable_respondable_respondable_respondable_respondable_respondable">
            <origin rpy="2.711576 1.571041 -1.477086" xyz="0.009799 -0.010306 -0.000009" />
            <geometry>
                <box size="0.011078 0.012672 0.022135" />
            </geometry>
        </collision>
        <visual name="LfingerTip_respondable_respondable_respondable_respondable_respondable_visual">
            <origin rpy="1.570917 3.141585 2.618145" xyz="0.015281 0.010303 -0.000006" />
            <geometry>
                <mesh filename="models/urdf/industrial_06397/industrial_06397_LfingerTip_respondable_respondable_respondable_respondable_respondable_visual_vis_1.dae" />
            </geometry>
            <material name="LfingerTip_respondable_respondable_respondable_respondable_respondable_visual_material">
                <color rgba="0.282317 0.282389 0.282389 1.0" />
            </material>
        </visual>
        <visual name="LfingerTip_respondable_respondable_respondable_respondable_respondable_visual">
            <origin rpy="1.570917 3.141585 2.618145" xyz="0.015281 0.010303 -0.000006" />
            <geometry>
                <mesh filename="models/urdf/industrial_06397/industrial_06397_LfingerTip_respondable_respondable_respondable_respondable_respondable_visual_vis_2.dae" />
            </geometry>
            <material name="LfingerTip_respondable_respondable_respondable_respondable_respondable_visual_material">
                <color rgba="0.305882 0.305882 0.305882 1.0" />
            </material>
        </visual>
    </link>
    <joint name="LactiveJoint" type="continuous">
        <axis xyz="0 0 1" />
        <parent link="robotiq_base_respondable_respondable_respondable_respondable_respondable_respondable" />
        <child link="LauxLink1Visible_visual_visual_visual_visual_visual_visual" />
        <origin rpy="-1.570793 -1.570796 0.000000" xyz="0.067942 -0.004681 0.042599" />
    </joint>
    <link name="LauxLink1Visible_visual_visual_visual_visual_visual_visual">
        <visual name="LauxLink1Visible_visual_visual_visual_visual_visual_visual">
            <origin rpy="-1.570931 3.141677 -1.674482" xyz="0.014963 -0.001623 0.000001" />
            <geometry>
                <mesh filename="models/urdf/industrial_06397/industrial_06397_LauxLink1Visible_visual_visual_visual_visual_visual_visual_vis_1.dae" />
            </geometry>
            <material name="LauxLink1Visible_visual_visual_visual_visual_visual_visual_material">
                <color rgba="0.282317 0.282389 0.282389 1.0" />
            </material>
        </visual>
        <visual name="LauxLink1Visible_visual_visual_visual_visual_visual_visual">
            <origin rpy="-1.570931 3.141677 -1.674482" xyz="0.014963 -0.001623 0.000001" />
            <geometry>
                <mesh filename="models/urdf/industrial_06397/industrial_06397_LauxLink1Visible_visual_visual_visual_visual_visual_visual_vis_2.dae" />
            </geometry>
            <material name="LauxLink1Visible_visual_visual_visual_visual_visual_visual_material">
                <color rgba="0.837524 0.970755 1.000000 1.0" />
            </material>
        </visual>
    </link>
    <joint name="LauxJoint2" type="continuous">
        <axis xyz="0 0 1" />
        <parent link="LauxLink1Visible_visual_visual_visual_visual_visual_visual" />
        <child link="LauxLink2Visible_visual_visual_visual_visual_visual_visual" />
        <origin rpy="3.141592 3.141593 -3.141592" xyz="0.031465 -0.004244 -0.000000" />
    </joint>
    <link name="LauxLink2Visible_visual_visual_visual_visual_visual_visual">
        <visual name="LauxLink2Visible_visual_visual_visual_visual_visual_visual">
            <origin rpy="-1.570795 3.141585 -0.130688" xyz="0.003104 0.023609 -0.000000" />
            <geometry>
                <mesh filename="models/urdf/industrial_06397/industrial_06397_LauxLink2Visible_visual_visual_visual_visual_visual_visual_vis_1.dae" />
            </geometry>
            <material name="LauxLink2Visible_visual_visual_visual_visual_visual_visual_material">
                <color rgba="0.282317 0.282389 0.282389 1.0" />
            </material>
        </visual>
        <visual name="LauxLink2Visible_visual_visual_visual_visual_visual_visual">
            <origin rpy="-1.570795 3.141585 -0.130688" xyz="0.003104 0.023609 -0.000000" />
            <geometry>
                <mesh filename="models/urdf/industrial_06397/industrial_06397_LauxLink2Visible_visual_visual_visual_visual_visual_visual_vis_2.dae" />
            </geometry>
            <material name="LauxLink2Visible_visual_visual_visual_visual_visual_visual_material">
                <color rgba="0.837524 0.970755 1.000000 1.0" />
            </material>
        </visual>
    </link>
</robot>
